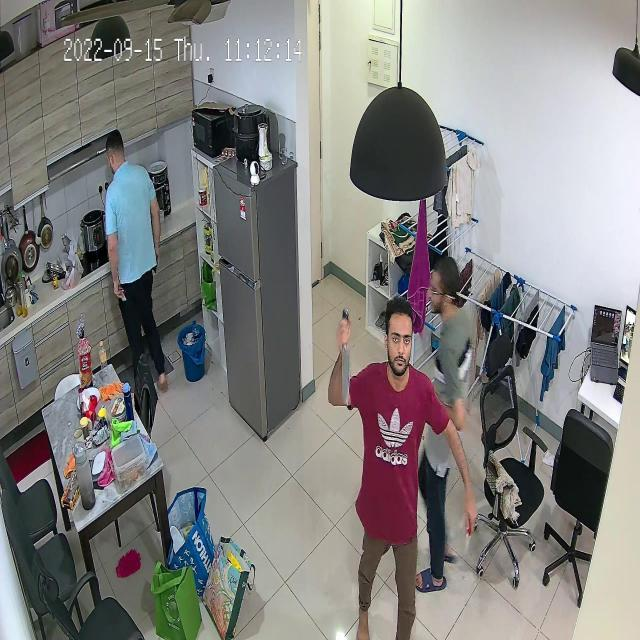Knife: (327, 302, 364, 413)
